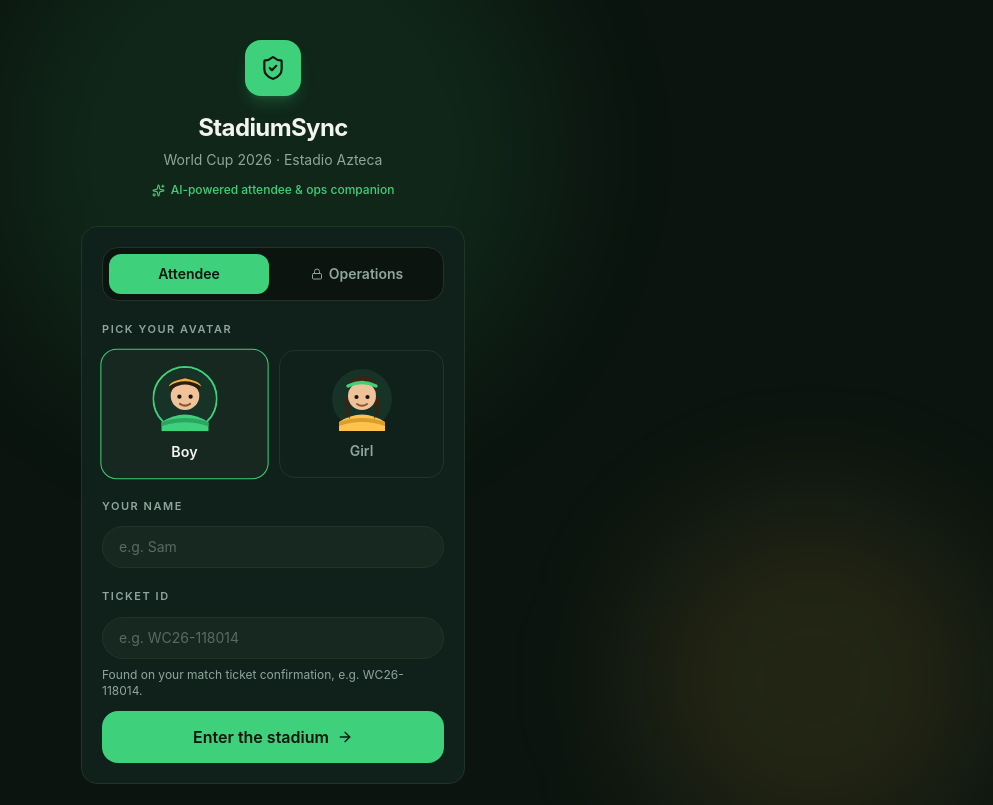
Test case: Role is fixed for the session › returns to the landing page via the exit control instead of switching roles in-place
Click the button "Boy".
click(184, 414)  # box [100,348,269,479]
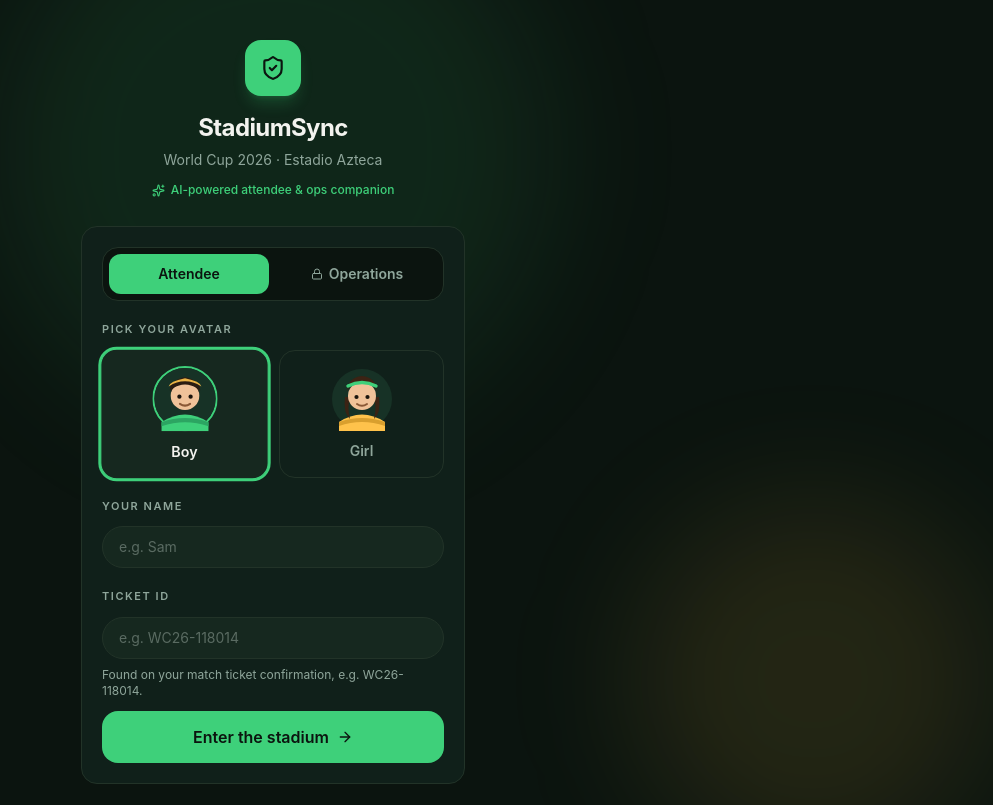
Type "Leo" into the field named "your name".
click(273, 547); type("Leo")  # box [102,526,444,568]
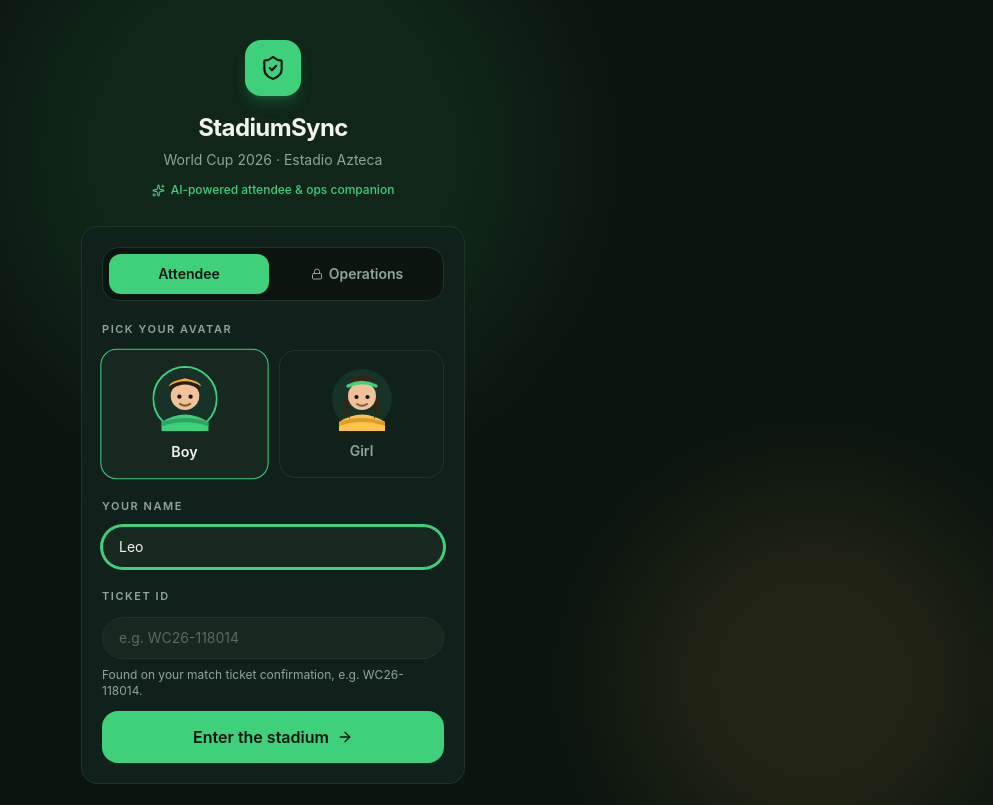
Type "WC26-118014" into the field named "ticket id".
click(273, 638); type("WC26-118014")  # box [102,616,444,658]
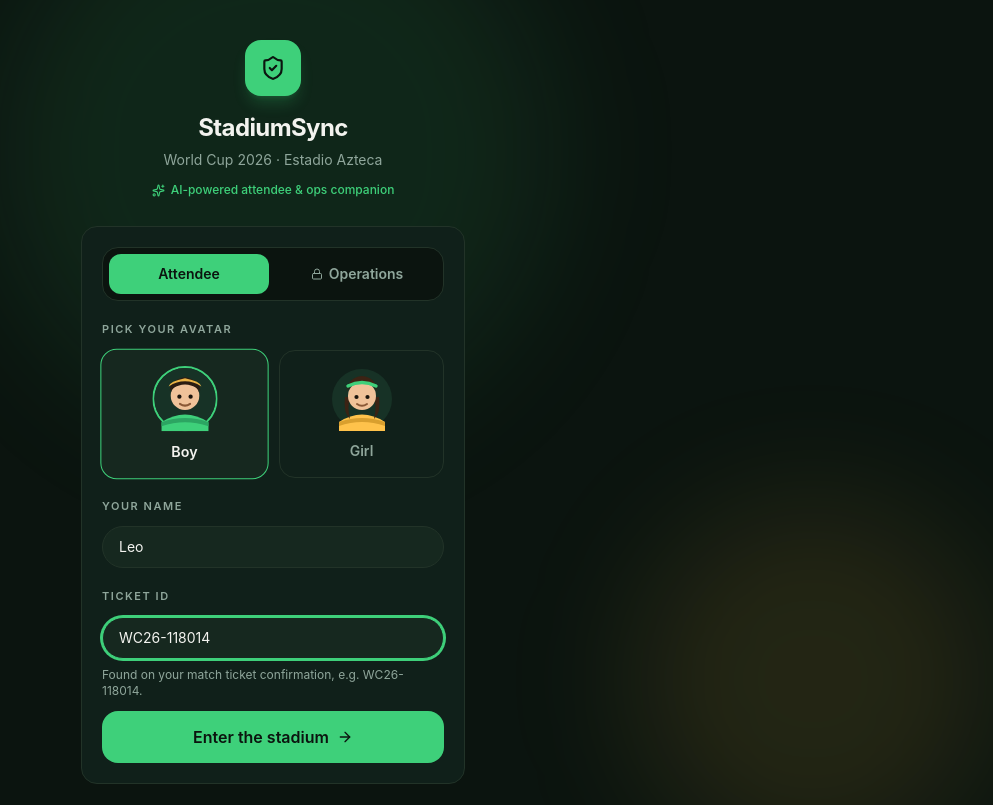
Click the button "Enter the stadium".
click(273, 736)  # box [102,710,444,762]
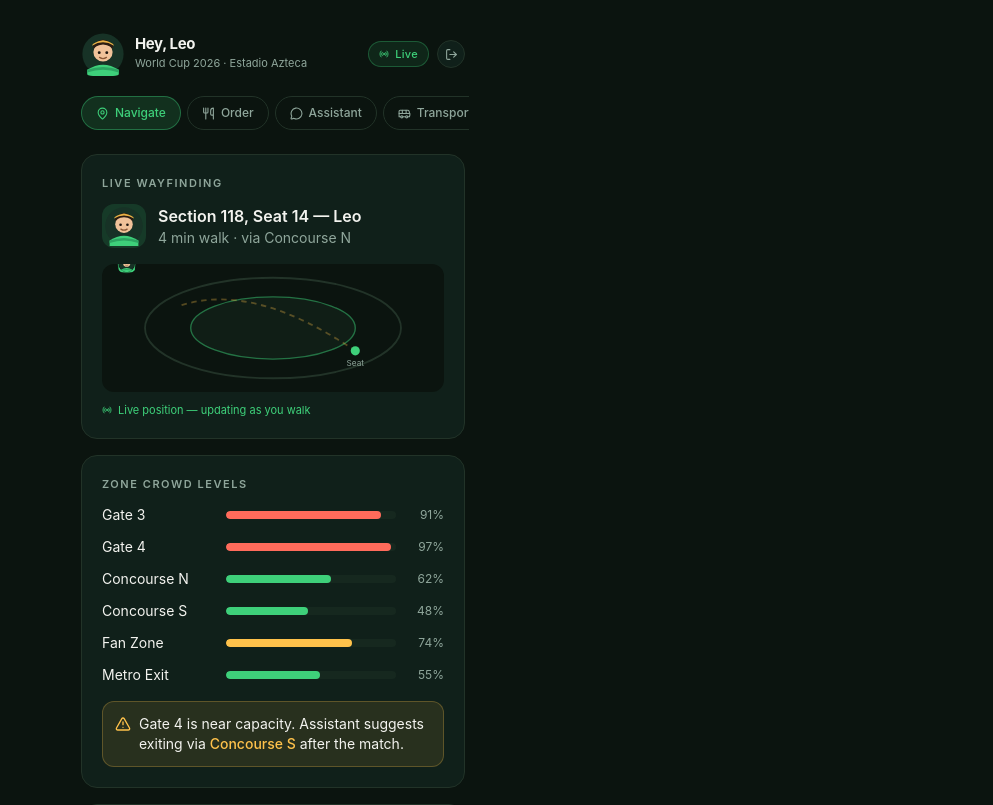
Check: the heading "Hey, Leo" is shown, box [135,34,195,53]
Click the button named "switch role".
click(451, 54)  # box [437,40,465,68]
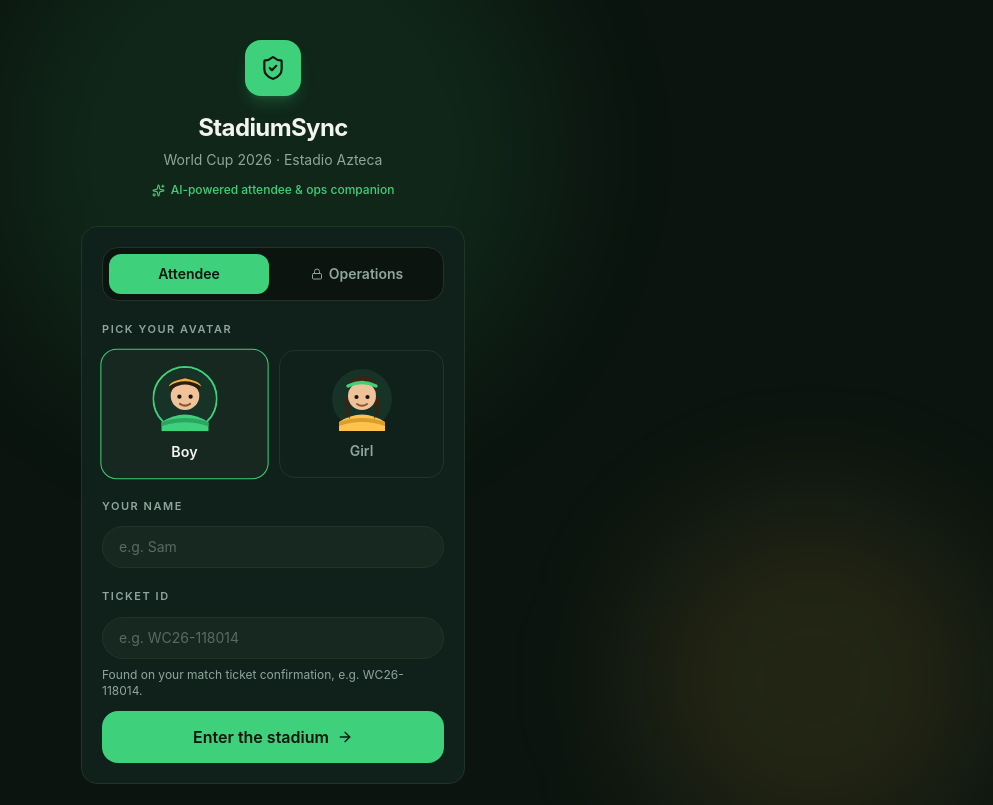
Check: the tab "Attendee" is shown, box [109,254,269,294]
